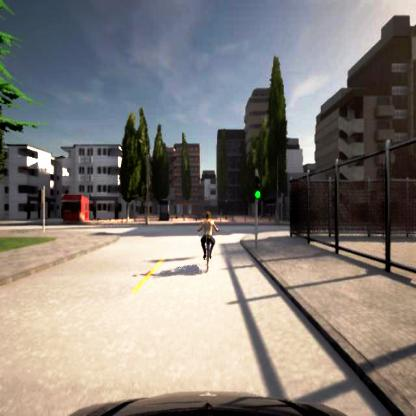bike: (196, 214, 218, 271)
